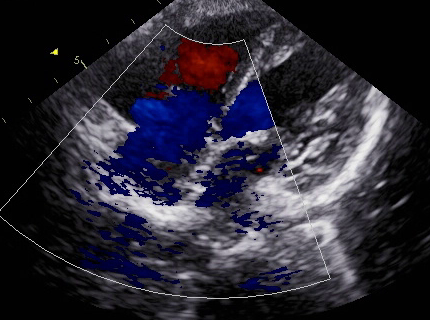TR: (141, 111, 209, 161)
